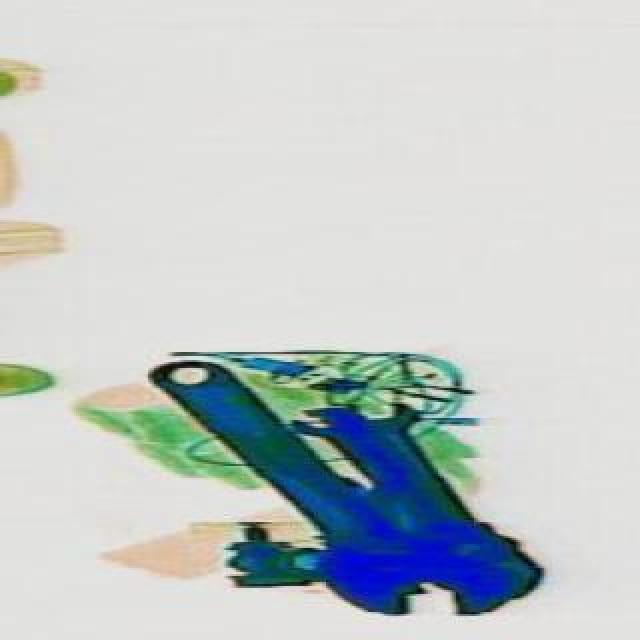scissors: (126, 322, 482, 638), (278, 358, 546, 636)
